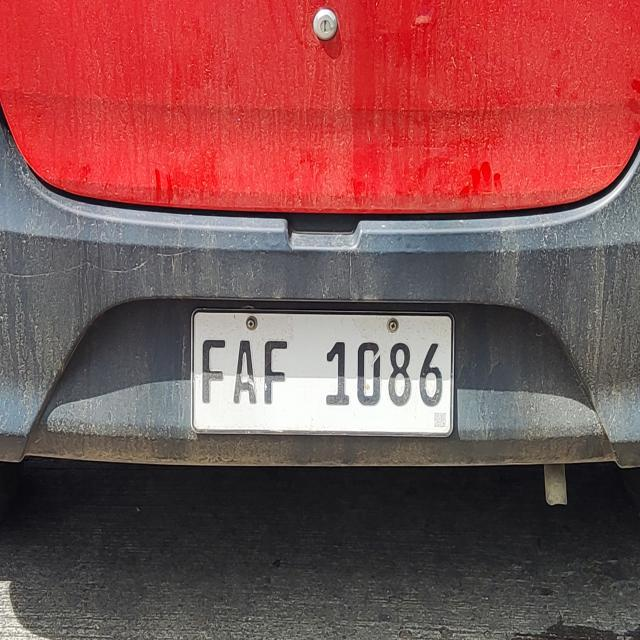LicensePlate: (180, 302, 467, 441)
